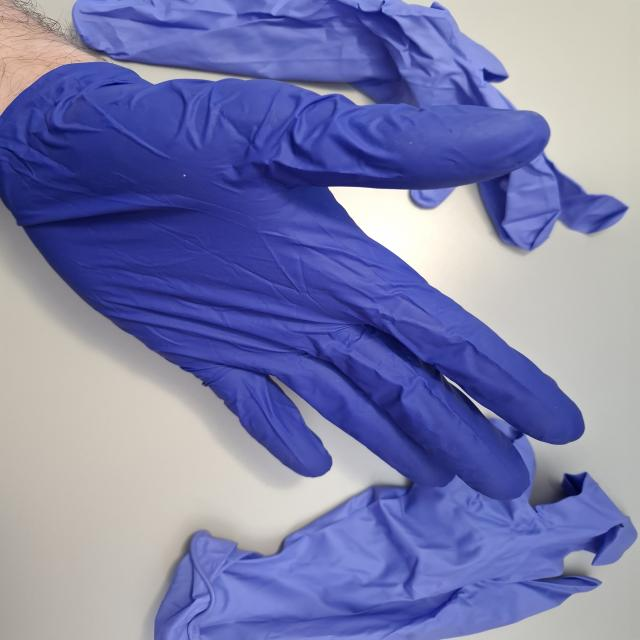glove_on: (0, 50, 590, 504)
